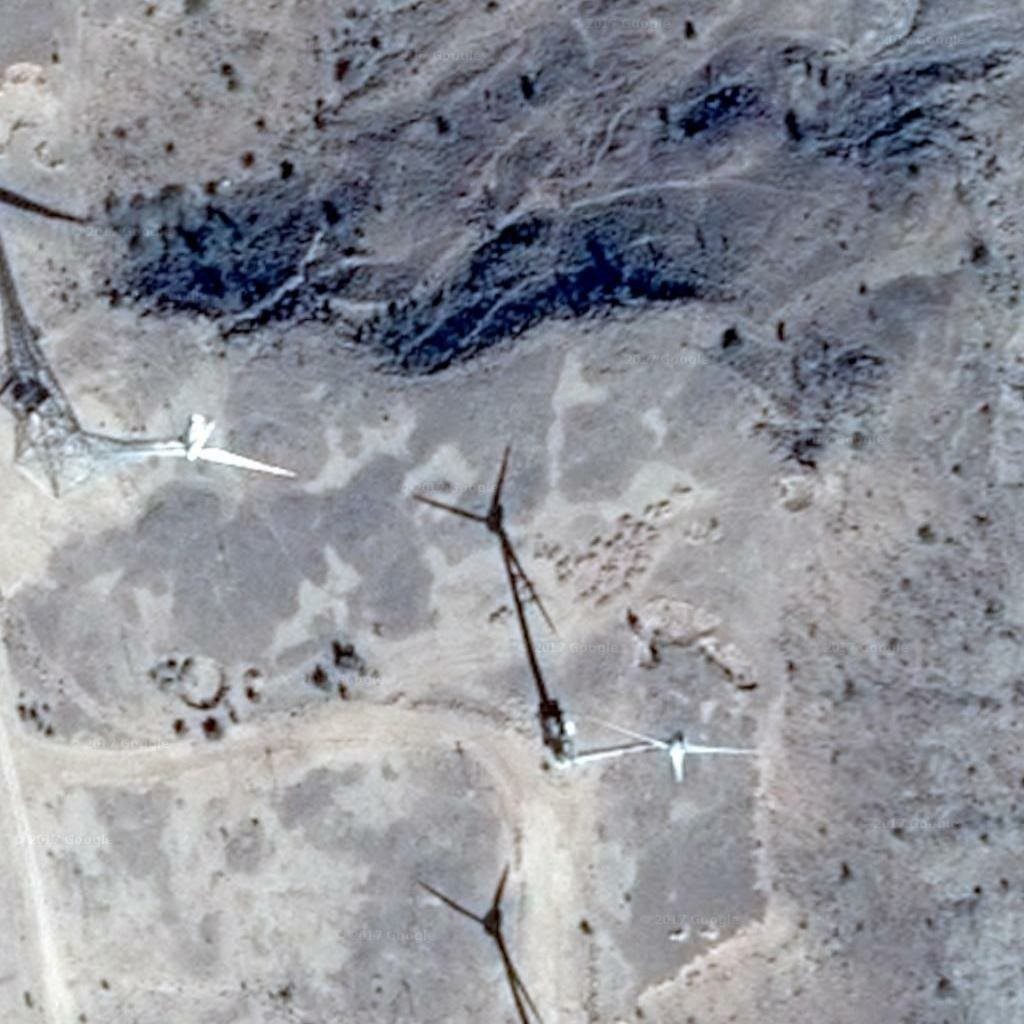Windmill: (410, 430, 570, 693)
